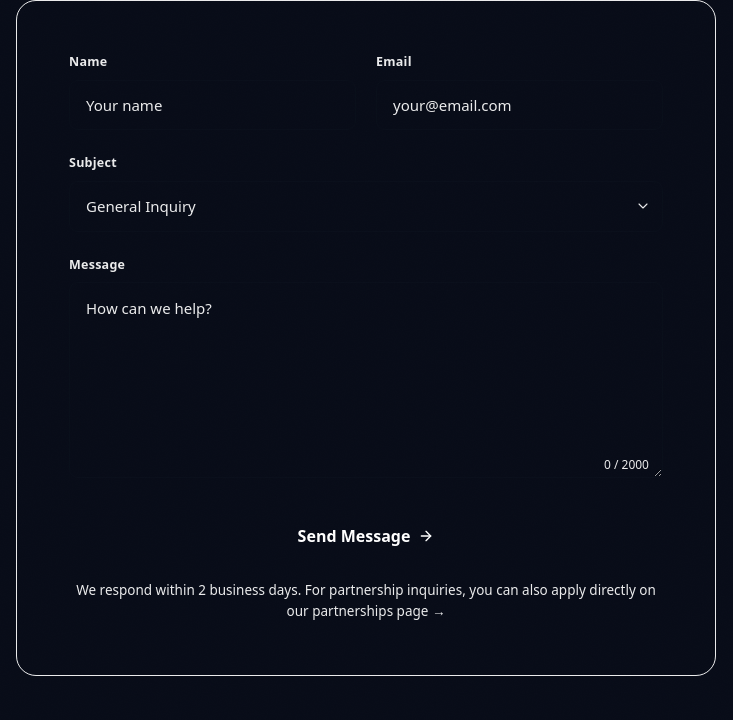
it: Contact page sections › ContactForm shows an error alert when the POST fails
Type "Tester" into the field labelled "Name". click: [212, 105]
box: left=69, top=80, right=356, bottom=130
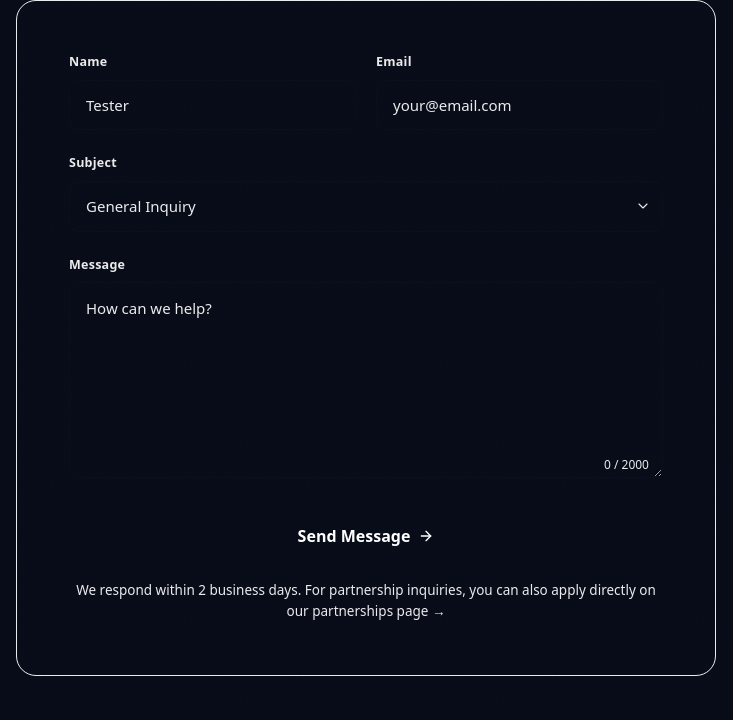
Type "test@example.com" into the field labelled "Email". click: [520, 105]
box: left=376, top=80, right=663, bottom=130
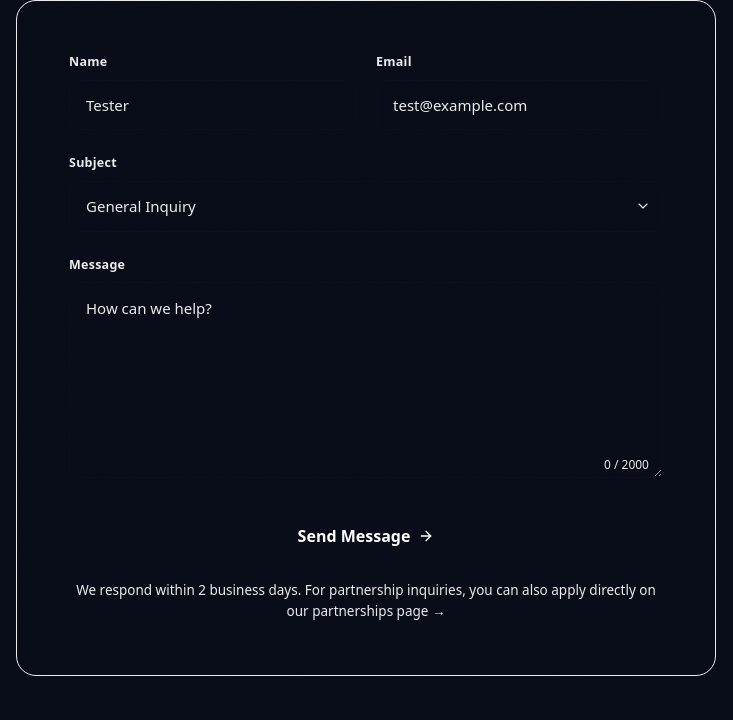
Type "Hello there" into the text box labelled "Message". click: [366, 380]
box: left=69, top=282, right=663, bottom=478
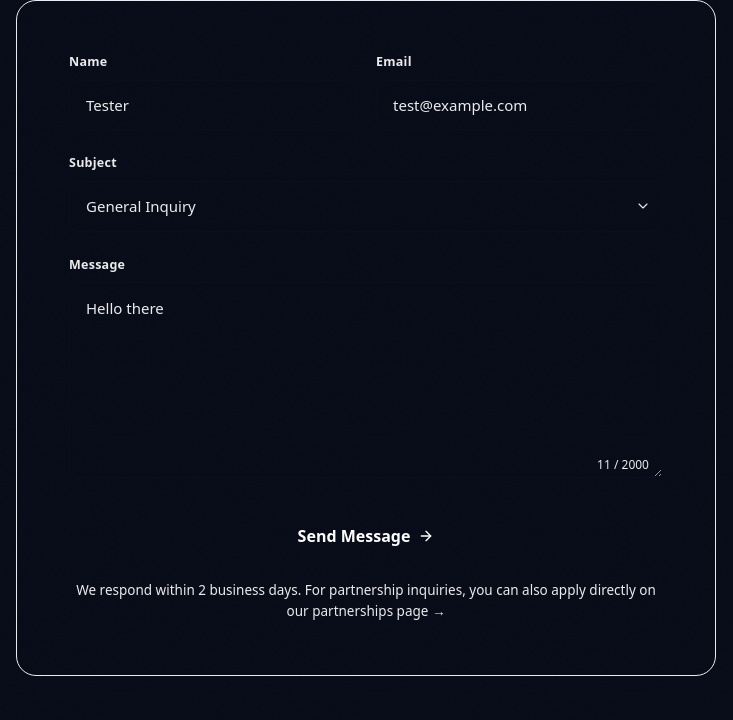
Click the button "Send Message". click: [366, 536]
box: left=69, top=508, right=663, bottom=564
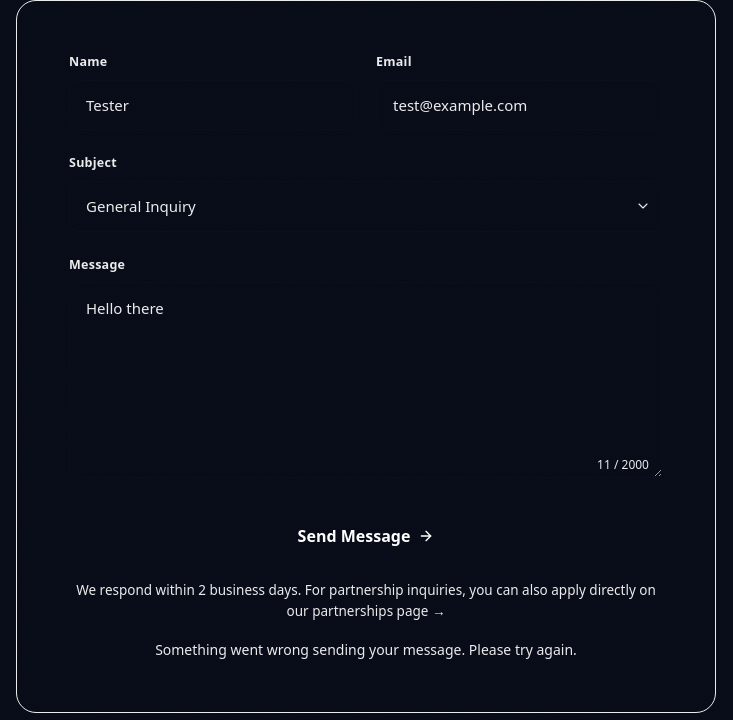
Expected: the message shows "Something went wrong", left=155, top=640, right=577, bottom=659
